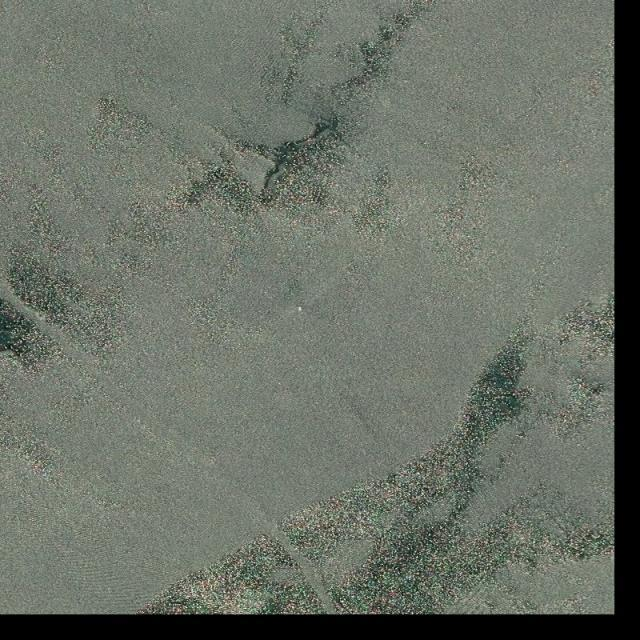ship: (298, 306, 302, 312)
